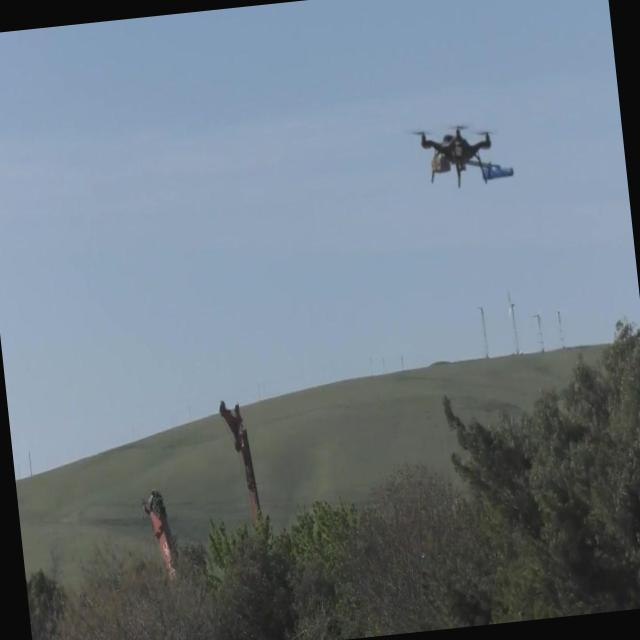drone: (414, 117, 514, 194)
